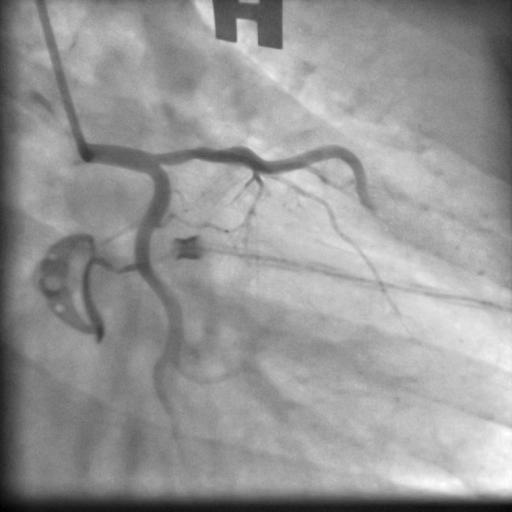Stenosis: (169, 143, 217, 162)
